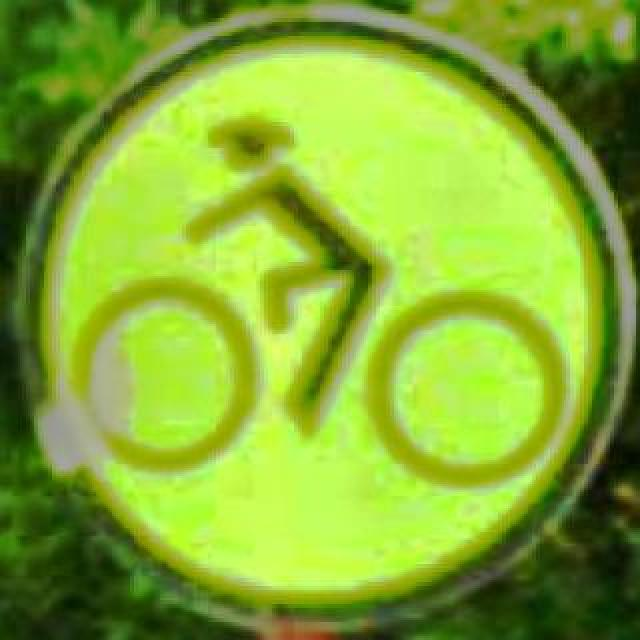bike lane: (12, 6, 630, 626)
